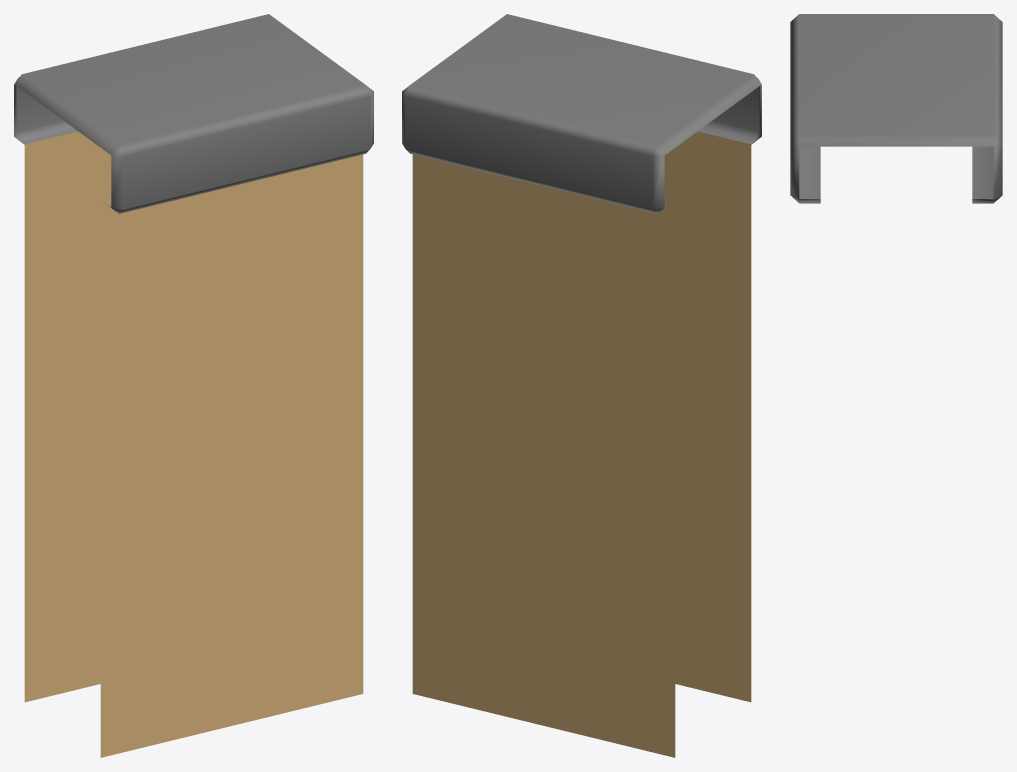
The model's file is SM_WallB_2x4_LOD1.fbx.
3 renders of one model, left to right at view 1: azimuth 30°, elevation 25°; view 2: azimuth 150°, elevation 25°; view 3: azimuth 270°, elevation 25°, orthographic.
Parts seen in each view (by area): view 1: SM_WallB_2x4_LOD1; view 2: SM_WallB_2x4_LOD1; view 3: SM_WallB_2x4_LOD1.
Part boxes in pixels (left/top/right/bottom): SM_WallB_2x4_LOD1: left=14, top=14, right=373, bottom=757; SM_WallB_2x4_LOD1: left=402, top=14, right=761, bottom=757; SM_WallB_2x4_LOD1: left=790, top=14, right=1002, bottom=203.
Size of the model in its own units: 2 by 4.5 by 1.4.
